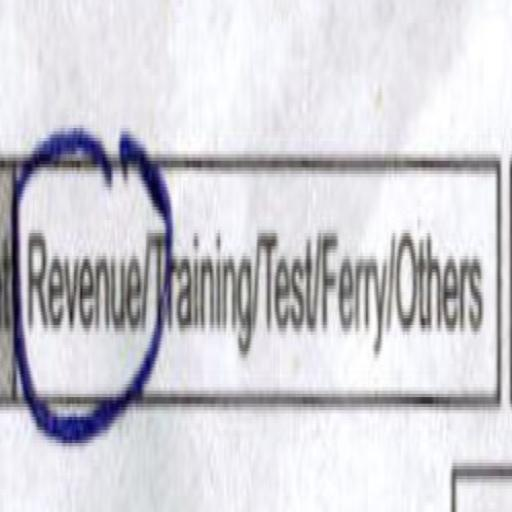check: (2, 22, 148, 438)
